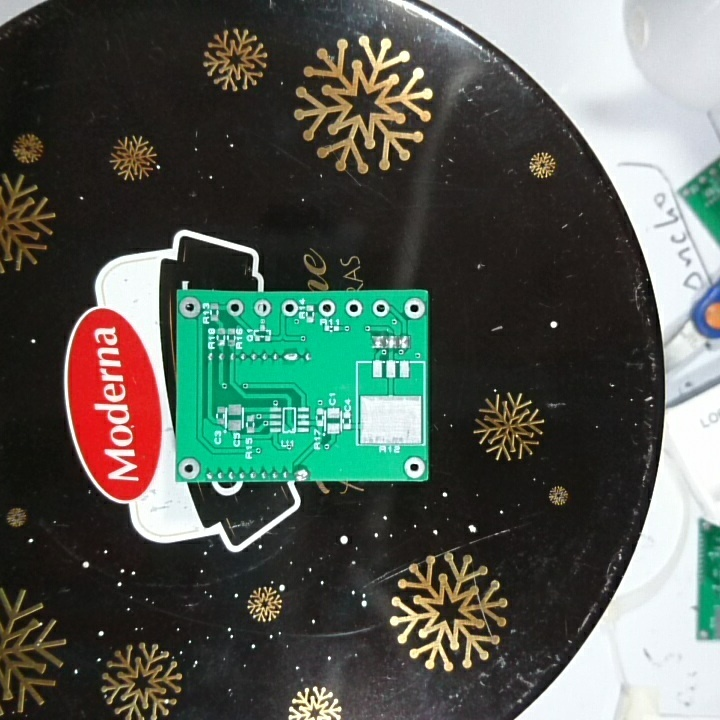F: (178, 294, 204, 320), (401, 454, 426, 480), (402, 296, 425, 322), (177, 457, 202, 480), (225, 297, 246, 318), (251, 297, 272, 318), (344, 298, 364, 320), (278, 298, 299, 318), (370, 298, 391, 318), (317, 299, 337, 318)
P: (279, 348, 300, 366), (291, 465, 311, 480)
